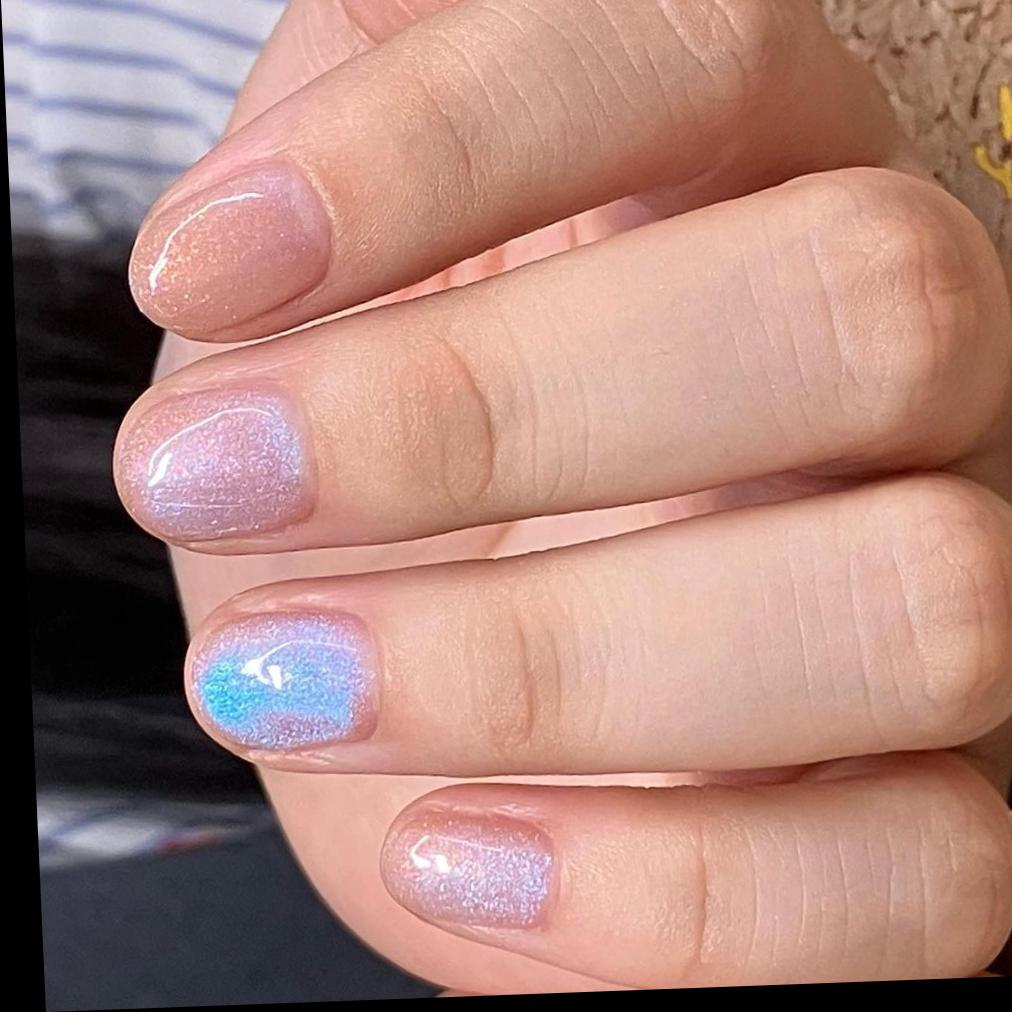nail: (171, 468, 1012, 793), (372, 752, 1012, 1000), (119, 154, 335, 343), (107, 383, 316, 548), (178, 605, 382, 758), (374, 795, 559, 941)
